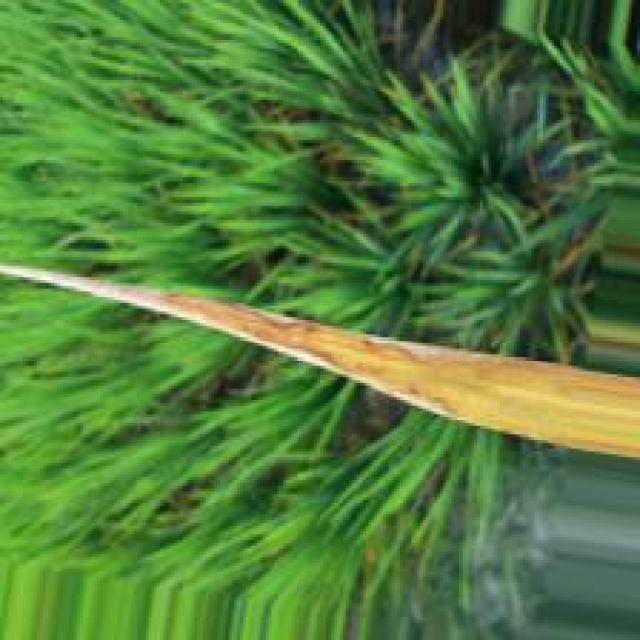Bacterial_Leaf_Blight: (2, 266, 635, 459)
